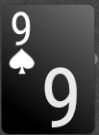Spade: (9, 48, 36, 75)
